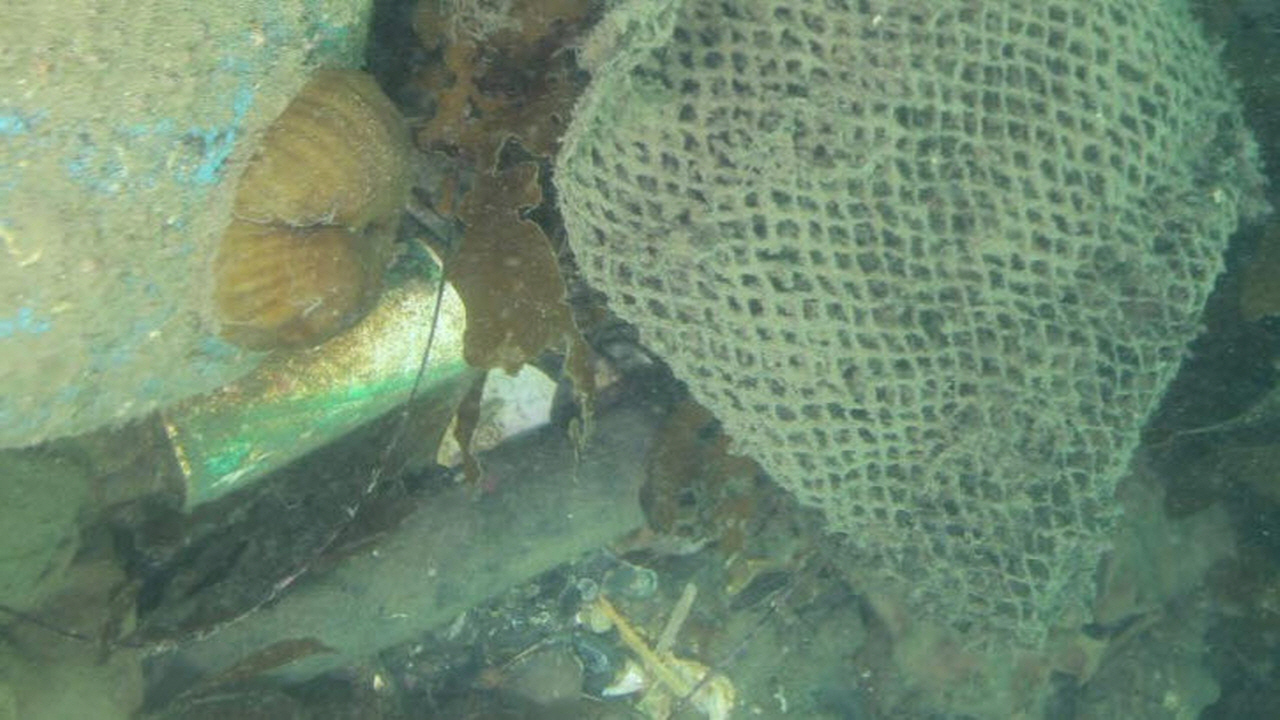fish net: (550, 0, 1247, 647)
